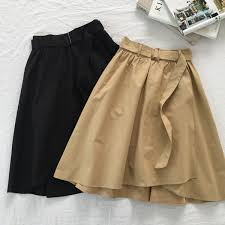C_skirt: (54, 33, 225, 211), (4, 20, 122, 202)
